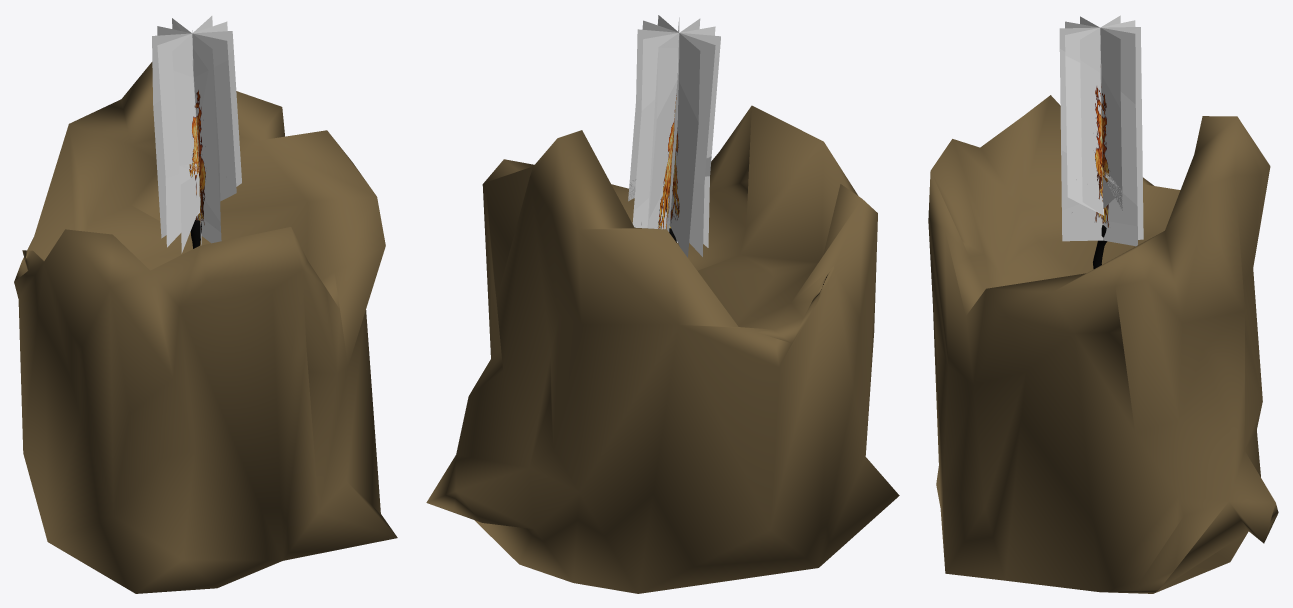
File: Candle_Wide_1.fbx
3 views of the same model, side by side, from view 1: azimuth 30°, elevation 25°; view 2: azimuth 150°, elevation 25°; view 3: azimuth 270°, elevation 25° (orthographic). The views are drawn at different scales.
Parts seen in each view (by area): view 1: Candle Wide 1; view 2: Candle Wide 1; view 3: Candle Wide 1.
Boxes of the visible parts, x1=… form: Candle Wide 1: x1=14, y1=16, x2=397, y2=593; Candle Wide 1: x1=426, y1=15, x2=899, y2=593; Candle Wide 1: x1=928, y1=15, x2=1278, y2=593.
Size of the model in its own units: 45.89 by 64.29 by 41.32.
